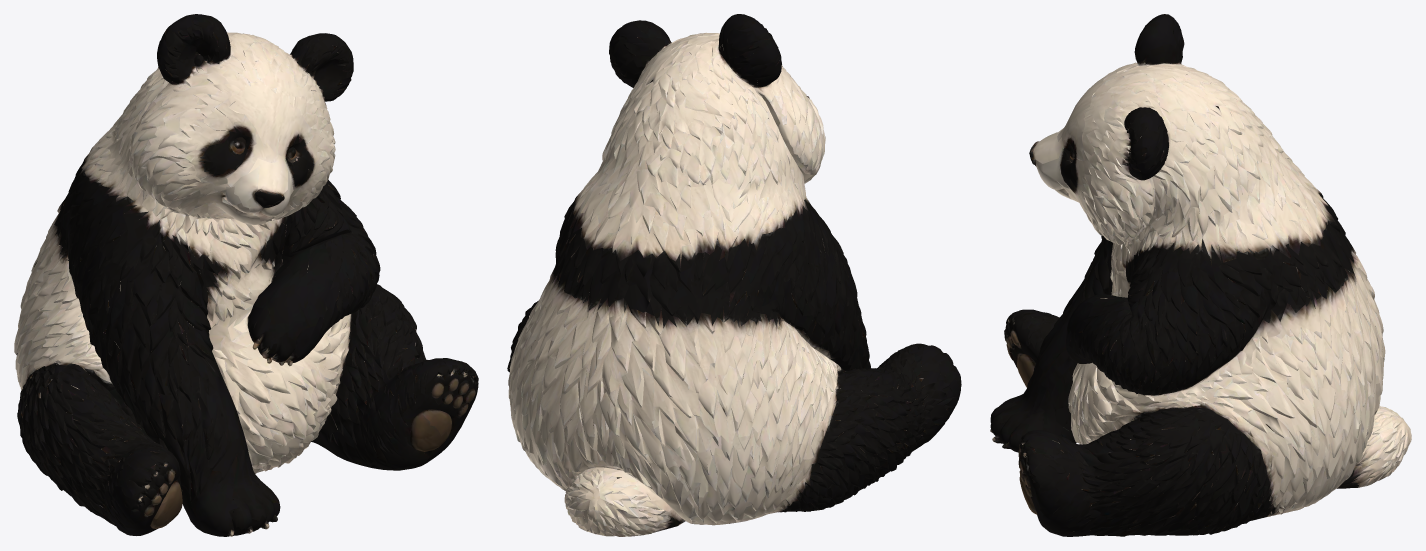
The model's file is upm_mv3pq4gf2oh.glb.
3 views of the same model, side by side, from view 1: azimuth 30°, elevation 25°; view 2: azimuth 150°, elevation 25°; view 3: azimuth 270°, elevation 25° (orthographic). The views are drawn at different scales.
Bounding box in the file's own units: 1.66 × 1.9 × 1.67.
Materials: 2 (2 with a texture image).
